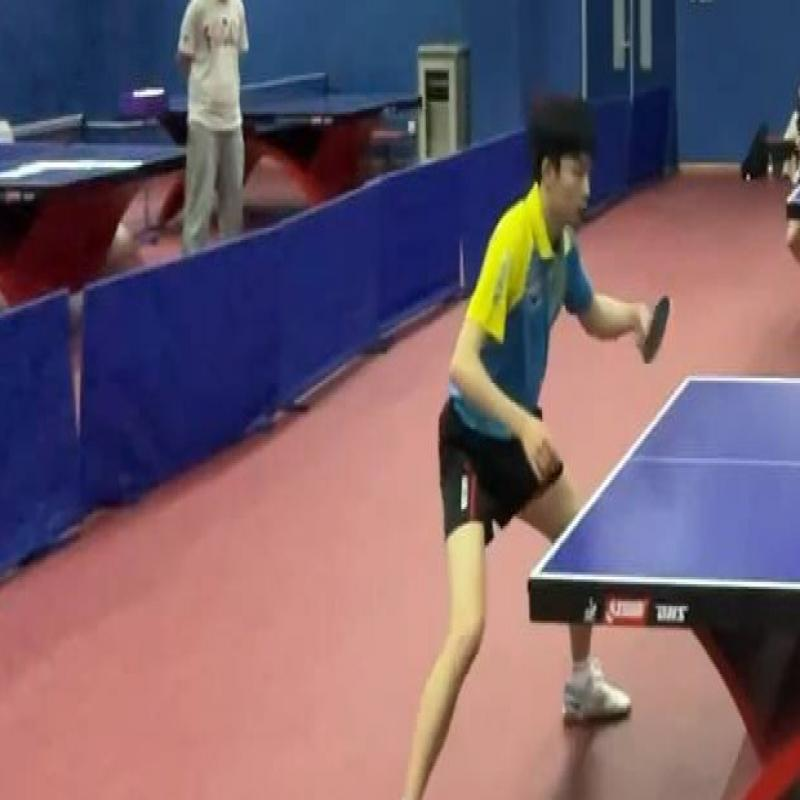bats: (627, 276, 680, 380)
